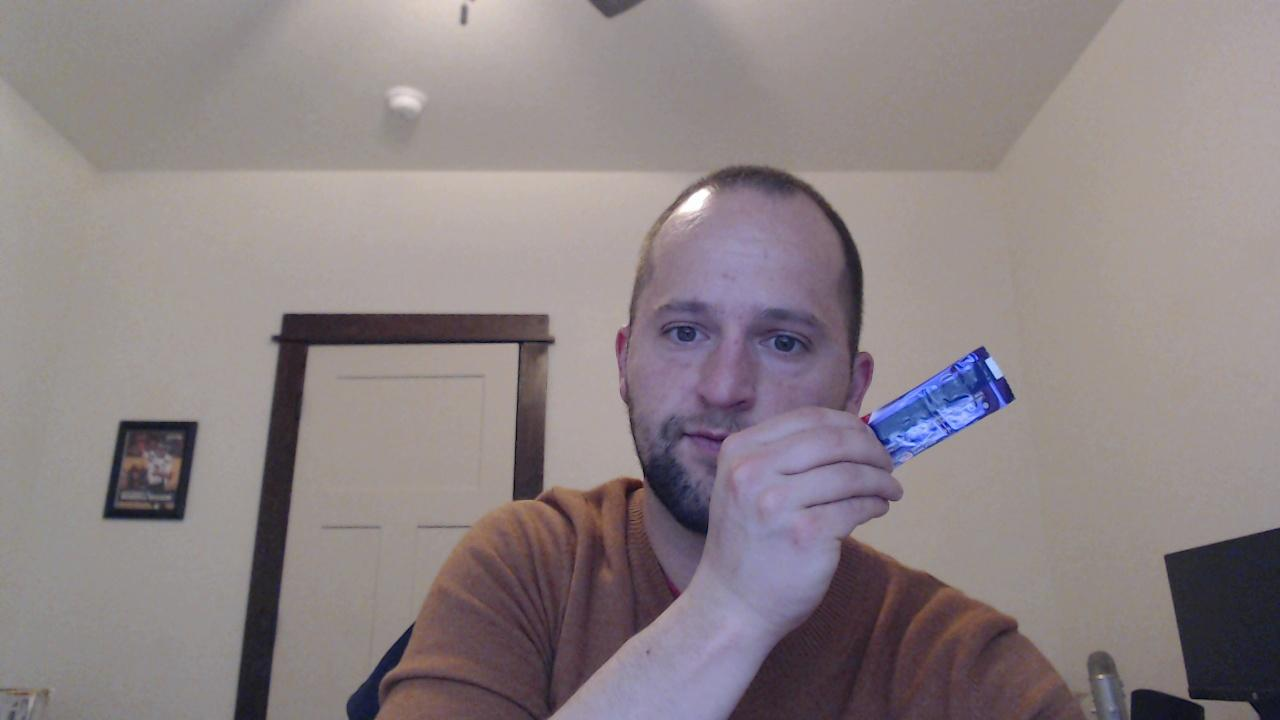airheads: (853, 339, 1019, 481)
